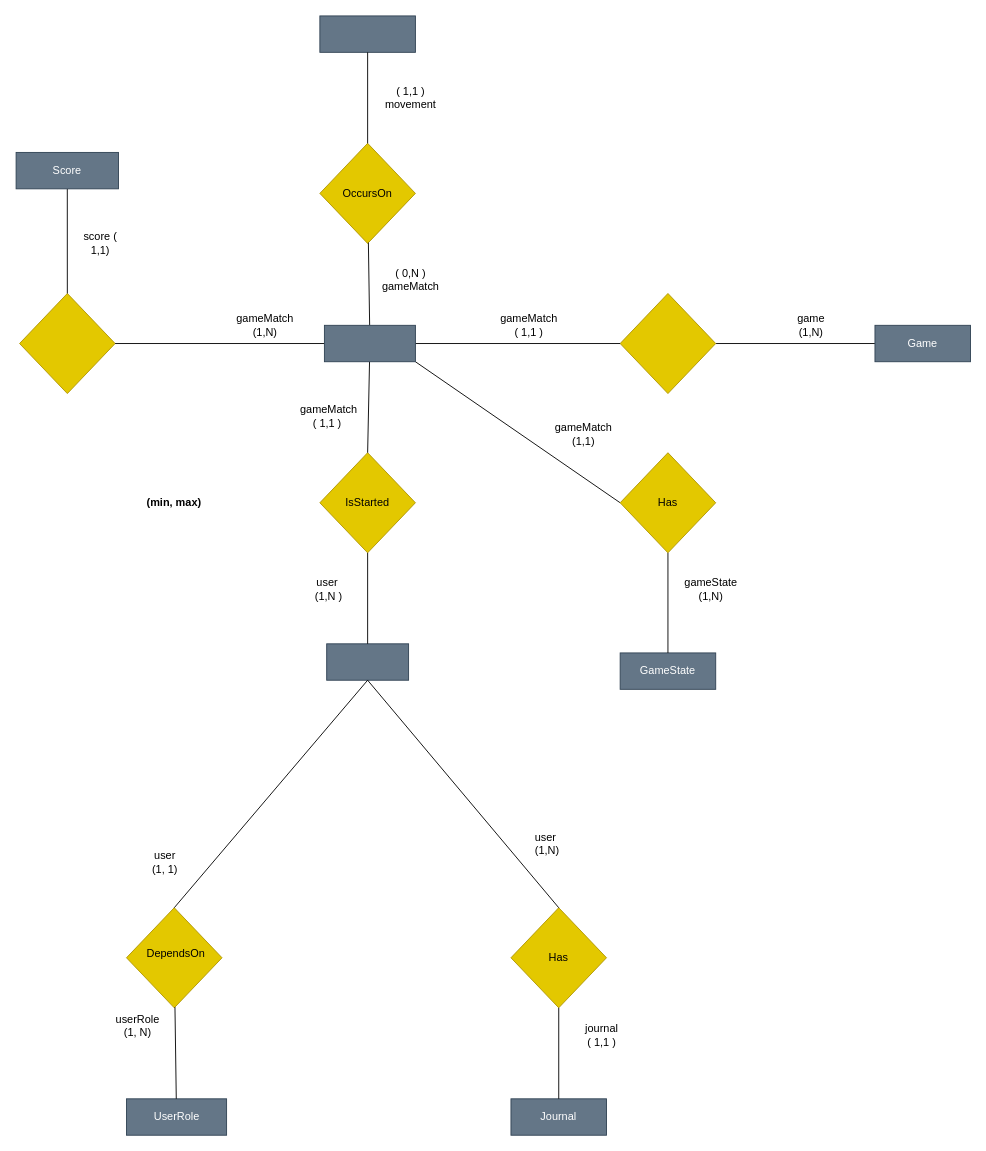
This 986x1151 diagram has some shape labels left out. The shapes that lost their labels are listed below. From the top down, each one's centre as x and y in pixels, then its label:
At [367,33]: "Movement".
At [67,343]: "RegisteredOn".
At [369,343]: "GameMatch".
At [667,343]: "DependOf".
At [367,661]: "User".
